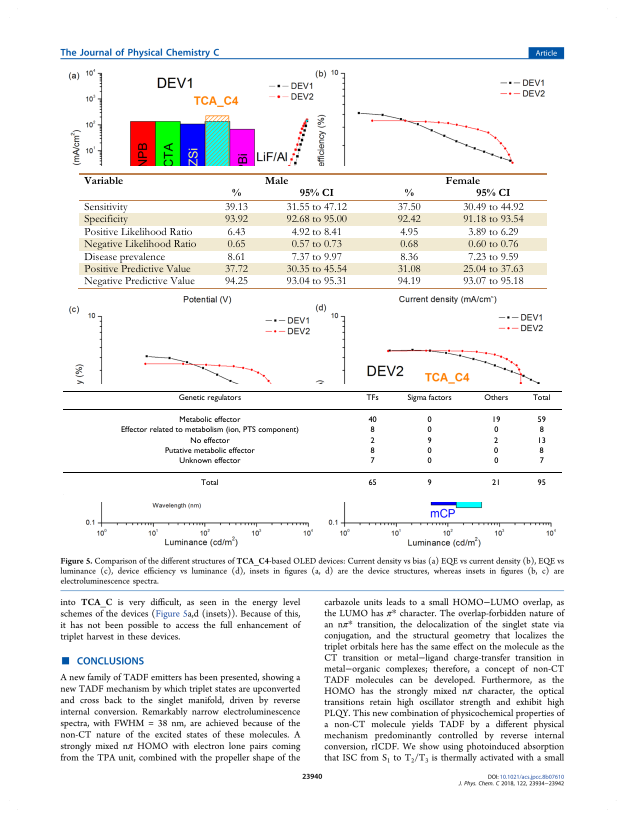borderless: (79, 171, 547, 288), (61, 389, 563, 496)
cell: (119, 426, 299, 436), (83, 239, 197, 251), (83, 276, 195, 288), (83, 226, 193, 238), (83, 264, 191, 276), (83, 251, 165, 263), (163, 446, 255, 456), (285, 202, 347, 214), (462, 202, 524, 214), (285, 214, 347, 226), (462, 214, 524, 226), (285, 264, 347, 276), (462, 264, 524, 276), (285, 276, 347, 288), (462, 276, 524, 288), (177, 393, 242, 403), (290, 226, 342, 238), (467, 226, 519, 238), (290, 239, 342, 251), (467, 239, 519, 251), (290, 251, 342, 263), (467, 251, 519, 263), (178, 416, 241, 425), (178, 457, 241, 466), (83, 202, 128, 214), (83, 214, 128, 226), (406, 393, 452, 403), (189, 436, 230, 446), (83, 175, 124, 185), (444, 175, 480, 185), (298, 188, 334, 197), (475, 188, 511, 197), (223, 202, 248, 214), (396, 202, 421, 214), (223, 214, 248, 226), (396, 214, 421, 226), (223, 264, 248, 276), (396, 264, 421, 276), (223, 276, 248, 288), (396, 276, 421, 288), (483, 393, 509, 403), (263, 175, 289, 185), (226, 226, 246, 238), (226, 239, 246, 251), (226, 251, 246, 263), (399, 226, 418, 238), (399, 239, 418, 251), (399, 251, 418, 263), (531, 393, 551, 403), (200, 479, 219, 489), (365, 393, 379, 403), (536, 436, 546, 446), (367, 479, 377, 489), (491, 479, 501, 489), (536, 479, 546, 489), (230, 188, 241, 197), (403, 188, 414, 197), (367, 416, 377, 425), (491, 416, 501, 425), (536, 416, 546, 425), (369, 426, 375, 436), (426, 426, 432, 436), (493, 426, 499, 436), (538, 426, 544, 436), (369, 436, 375, 446), (426, 436, 432, 446), (493, 436, 499, 446), (369, 446, 375, 456), (426, 446, 432, 456), (493, 446, 499, 456), (538, 446, 544, 456), (426, 479, 432, 489), (426, 416, 432, 425), (369, 457, 375, 466), (426, 457, 432, 466), (493, 457, 499, 466), (538, 457, 544, 466)
